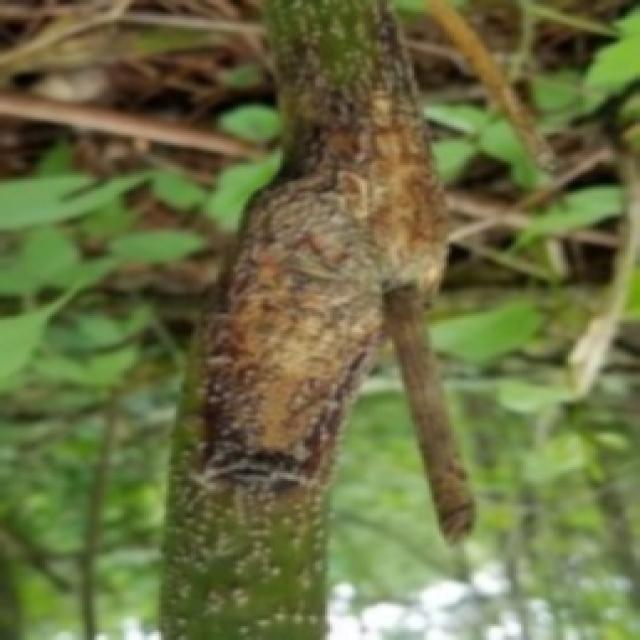Chlorosis: (149, 0, 476, 638)
